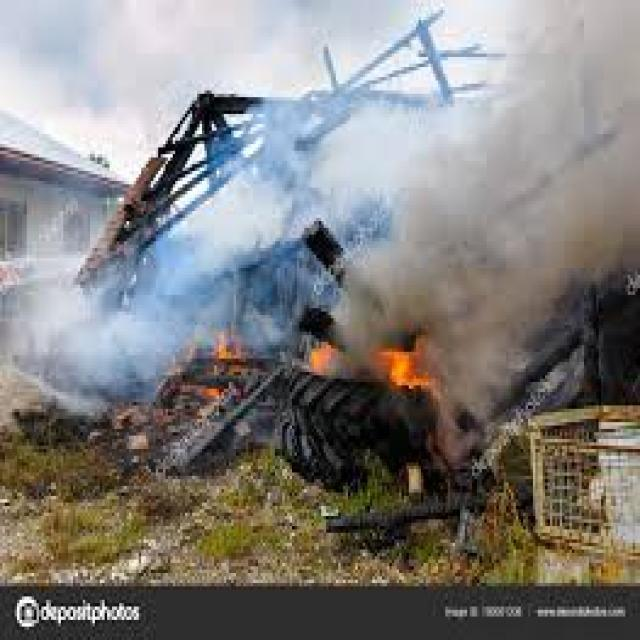Fire: (384, 340, 435, 392), (208, 335, 244, 391), (311, 342, 337, 376)
Smoke: (428, 10, 640, 319), (345, 89, 632, 294), (75, 105, 393, 286), (0, 174, 158, 426)
